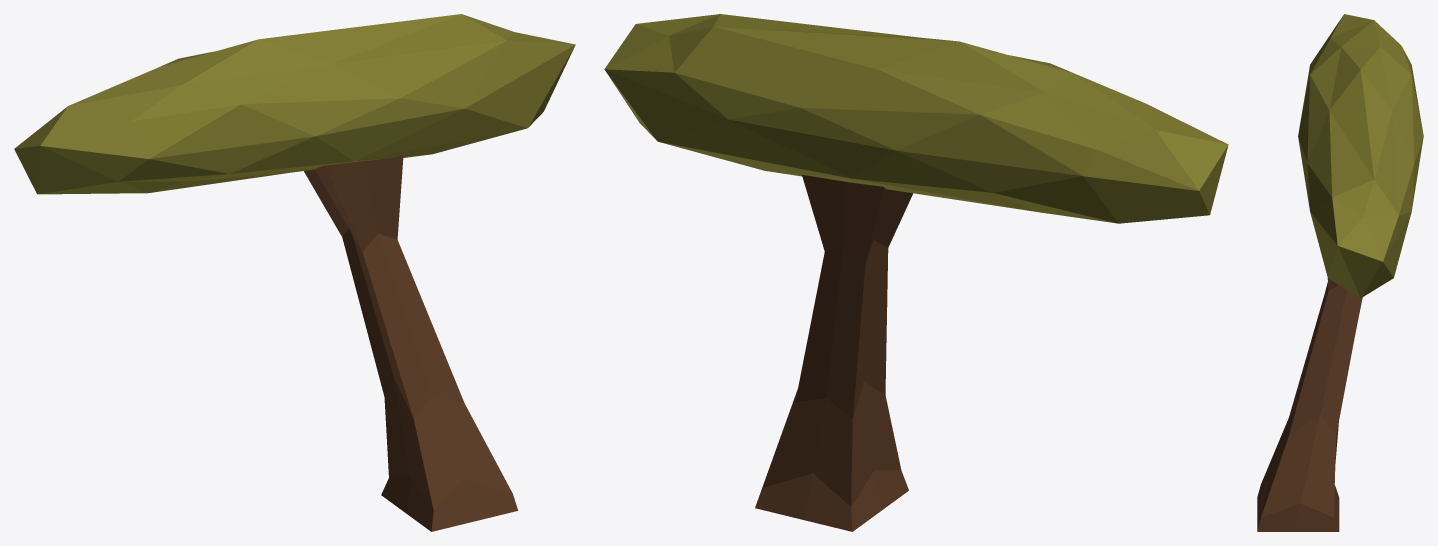
Rendered from Tree_36_Yellow.fbx.
3 views of the same model, side by side, from view 1: azimuth 30°, elevation 25°; view 2: azimuth 150°, elevation 25°; view 3: azimuth 270°, elevation 25° (orthographic). The views are drawn at different scales.
Parts seen in each view (by area): view 1: Tree_36_Yellow_Part_1, Tree_36_Yellow_Part_2; view 2: Tree_36_Yellow_Part_1, Tree_36_Yellow_Part_2; view 3: Tree_36_Yellow_Part_1, Tree_36_Yellow_Part_2.
Part boxes in pixels (x1=…): Tree_36_Yellow_Part_1: x1=14, y1=14, x2=575, y2=194; Tree_36_Yellow_Part_2: x1=304, y1=155, x2=518, y2=531; Tree_36_Yellow_Part_1: x1=604, y1=14, x2=1228, y2=223; Tree_36_Yellow_Part_2: x1=755, y1=175, x2=912, y2=531; Tree_36_Yellow_Part_1: x1=1298, y1=14, x2=1423, y2=297; Tree_36_Yellow_Part_2: x1=1257, y1=278, x2=1362, y2=531.
Bounding box in the file's own units: 795 × 675 × 265.
